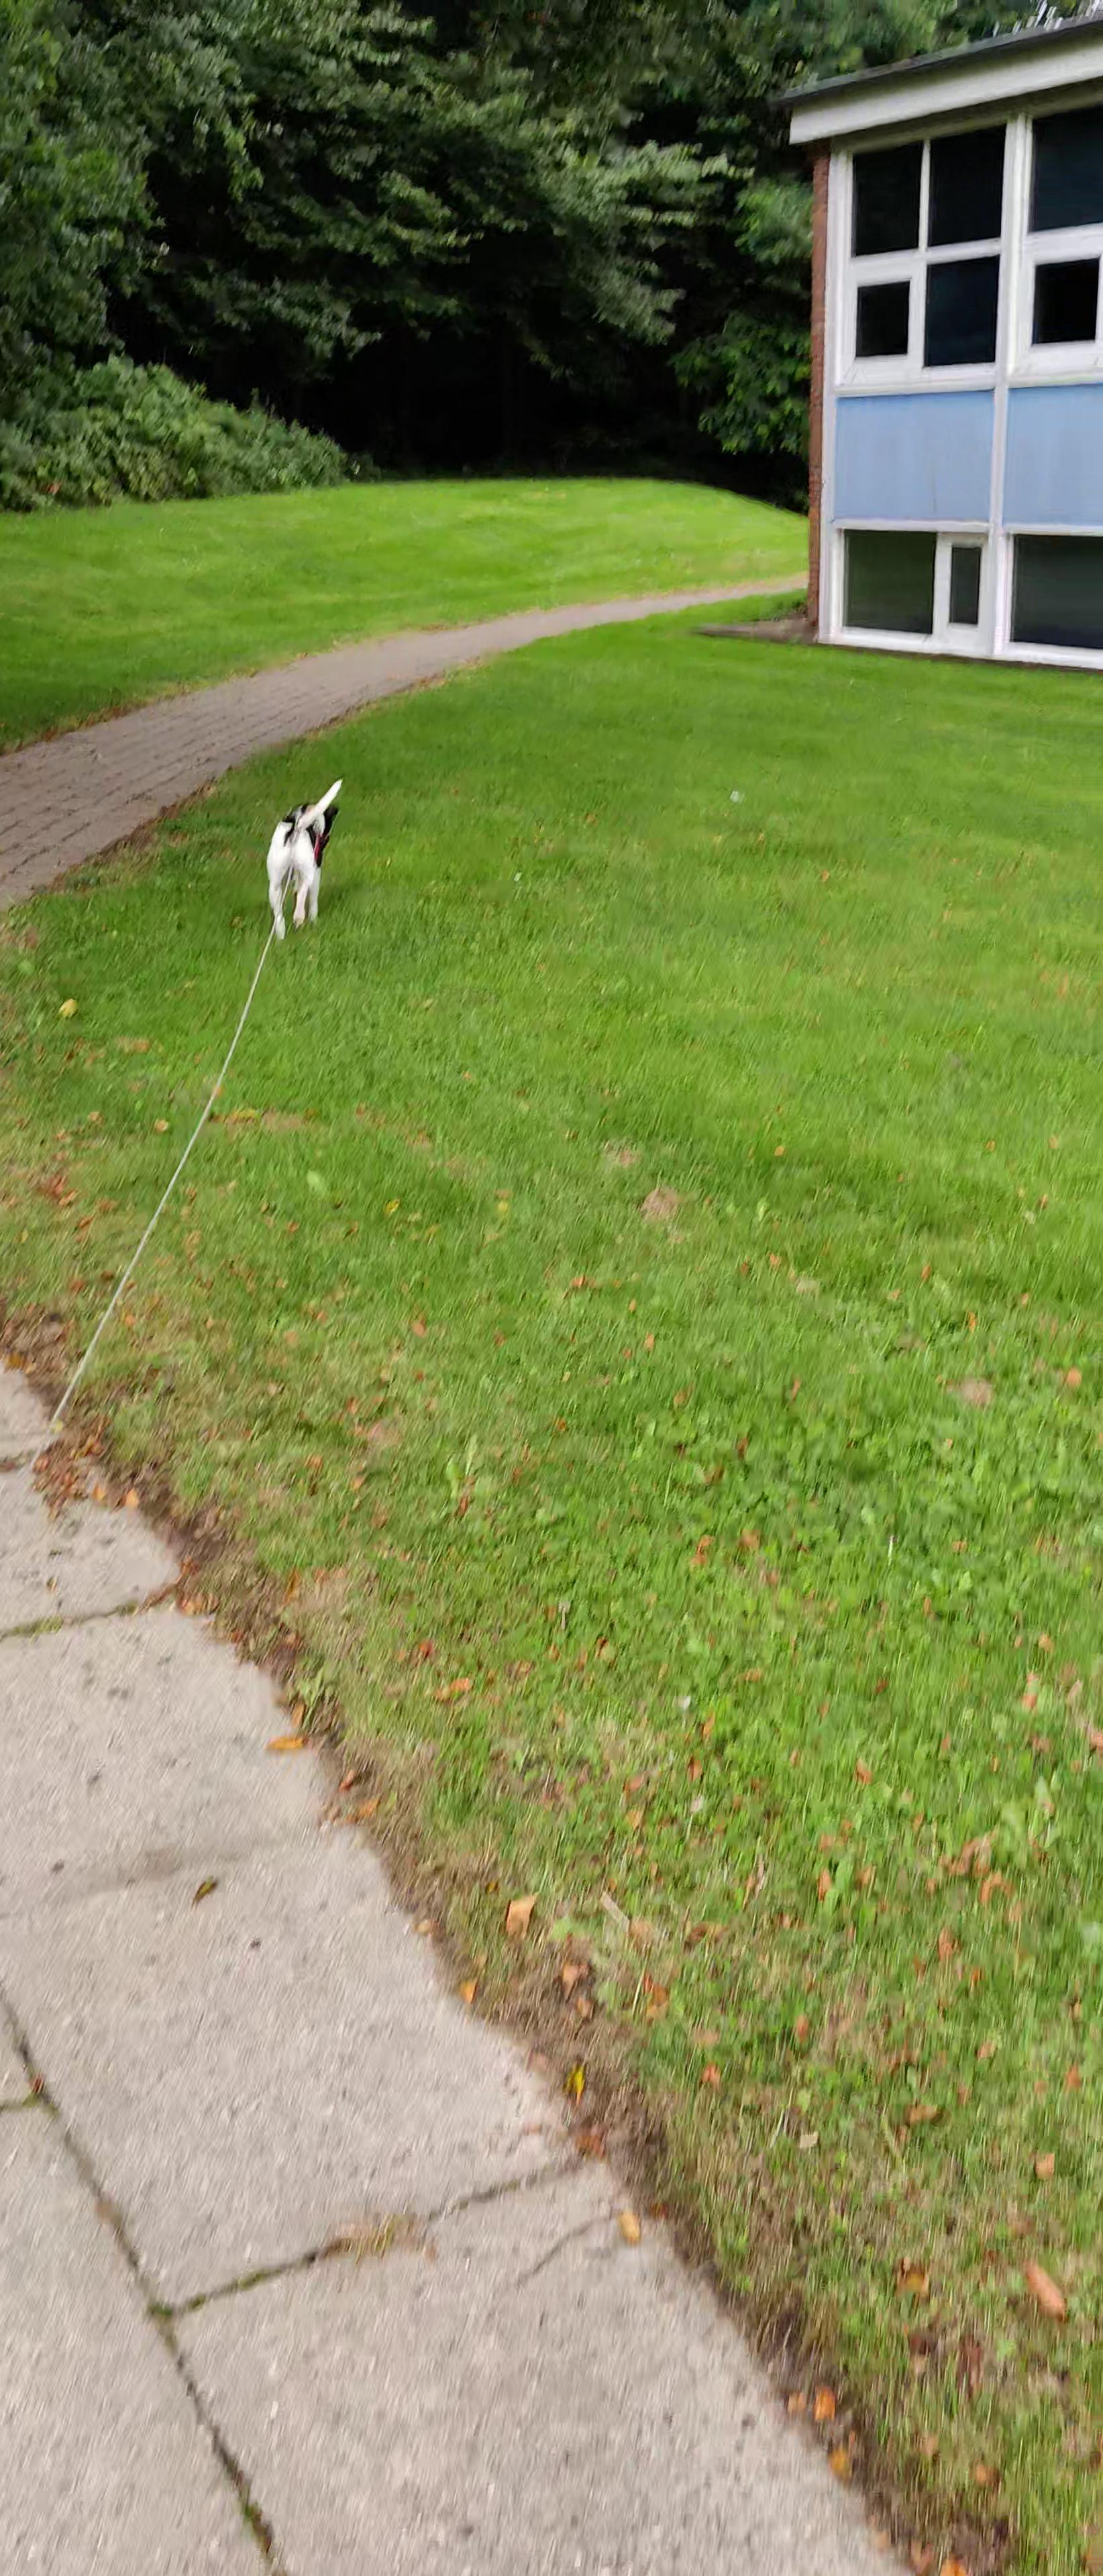Dog: (248, 767, 363, 946)
